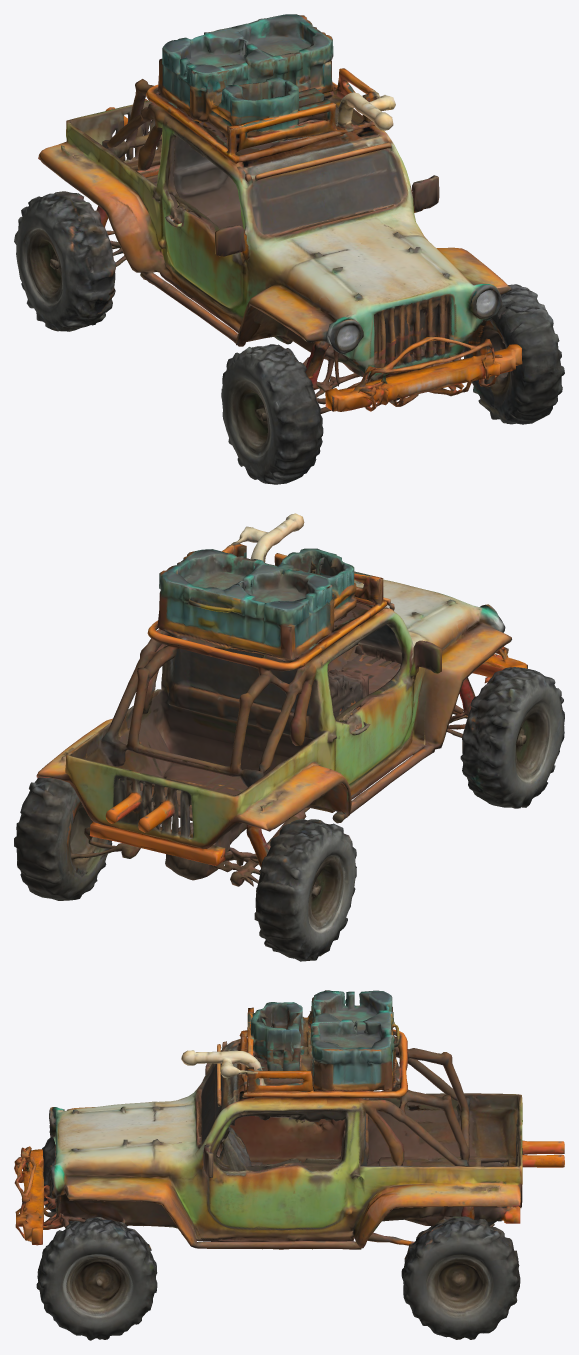
The model's file is buggy.glb.
The picture shows the model from 3 angles, top to bottom: view 1: azimuth 30°, elevation 25°; view 2: azimuth 150°, elevation 25°; view 3: azimuth 270°, elevation 25°; orthographic projection. The views are drawn at different scales.
Bounding box in the file's own units: 1.06 × 1.06 × 2.
1 material, 1 textured.
